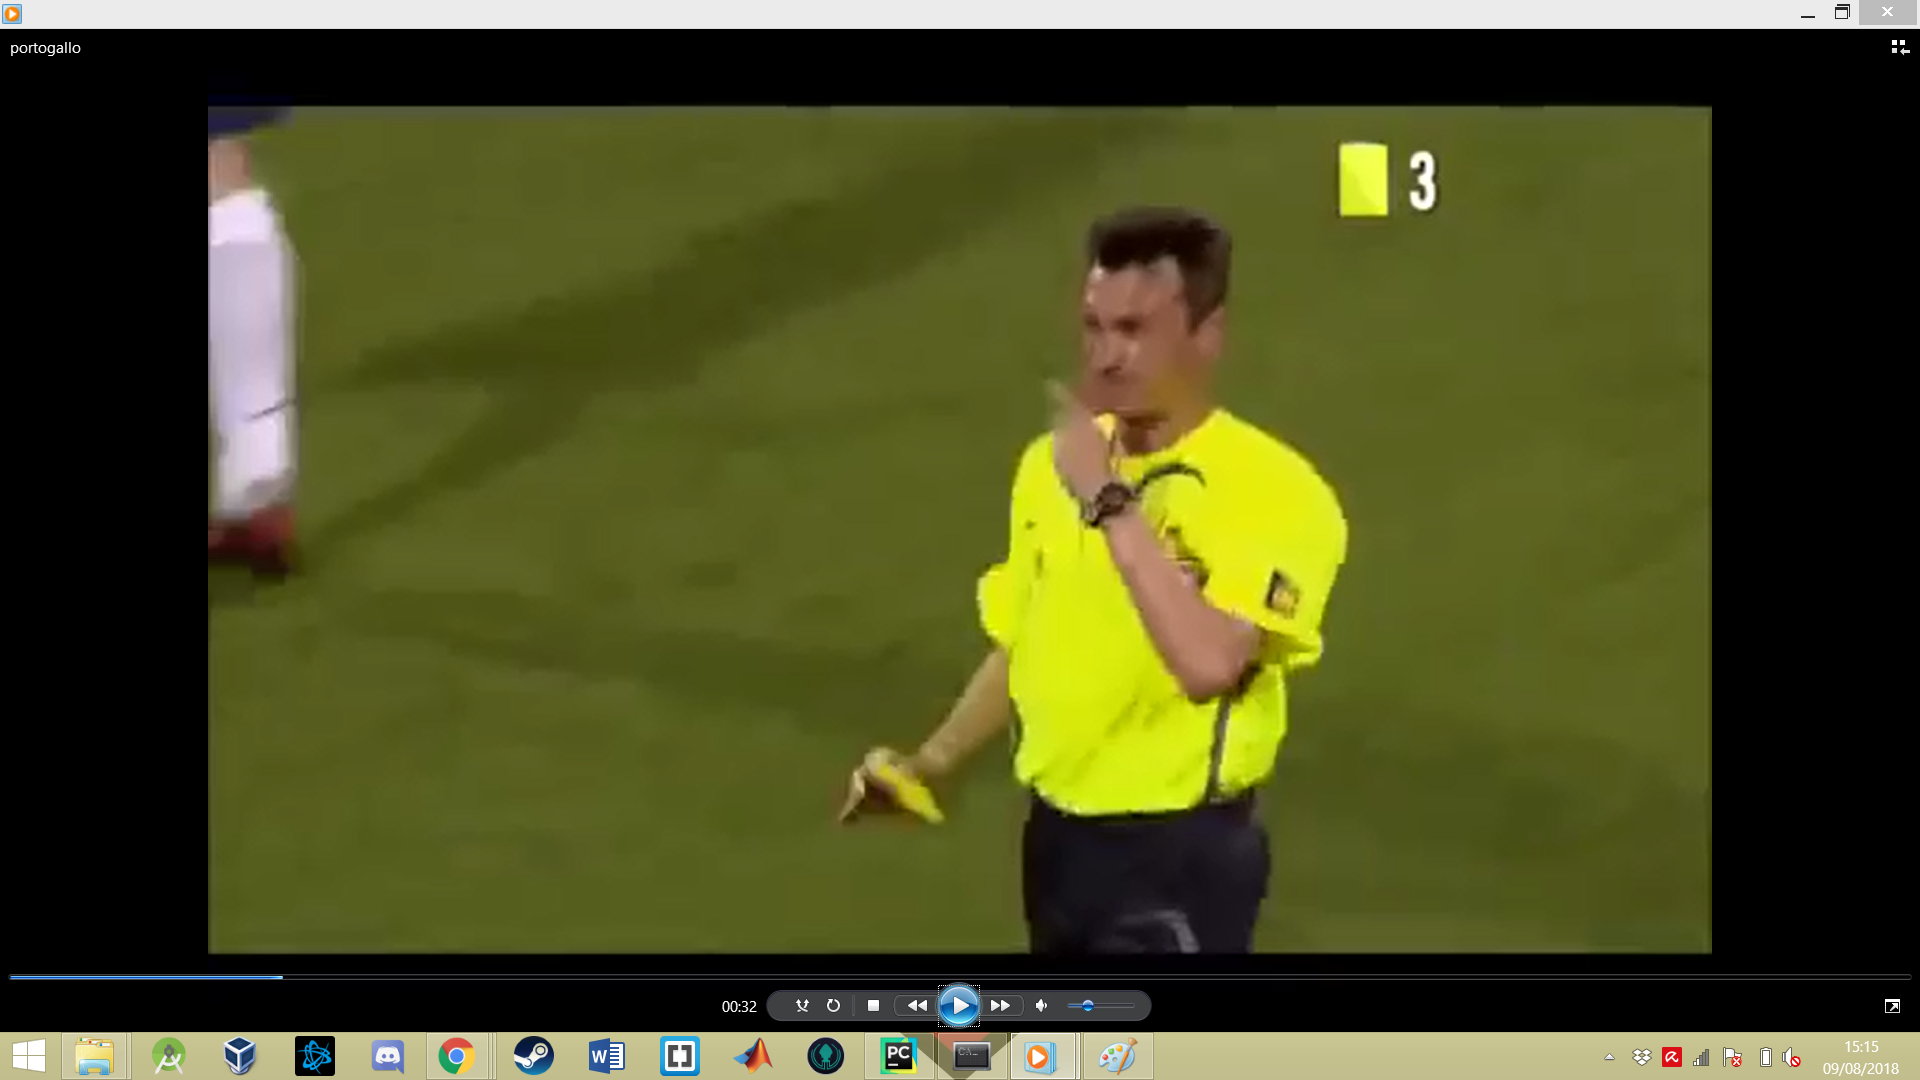yellow_card: (829, 736, 948, 840)
